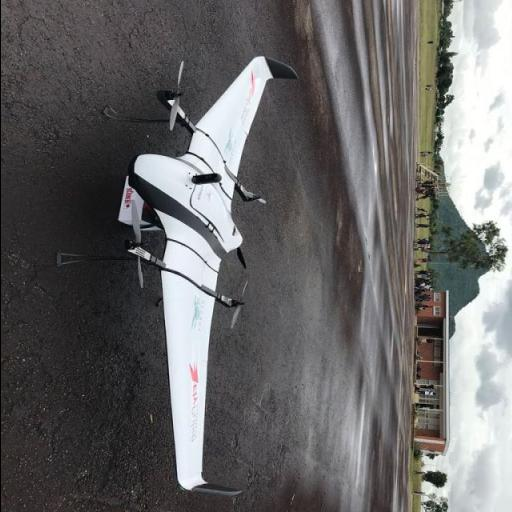uav: (60, 52, 302, 500)
